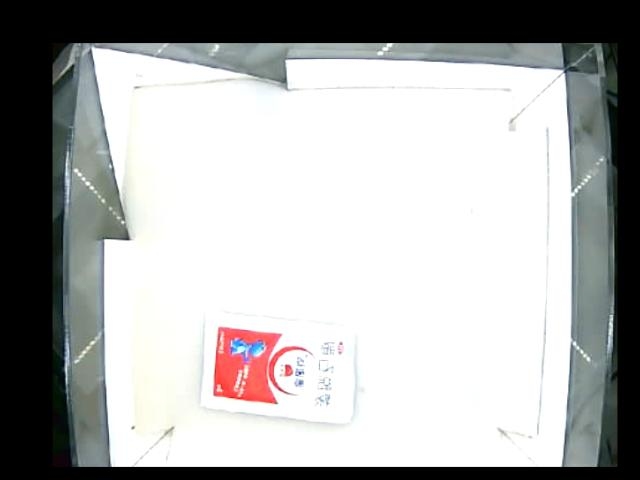Medicine: (199, 307, 356, 423)
